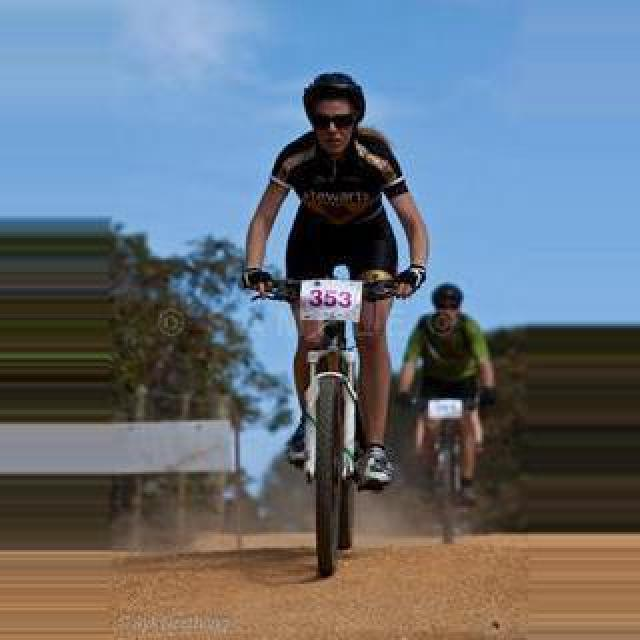MC-Bike: (244, 70, 428, 488), (396, 282, 498, 502)
Person: (301, 337, 361, 579), (406, 394, 474, 542)
